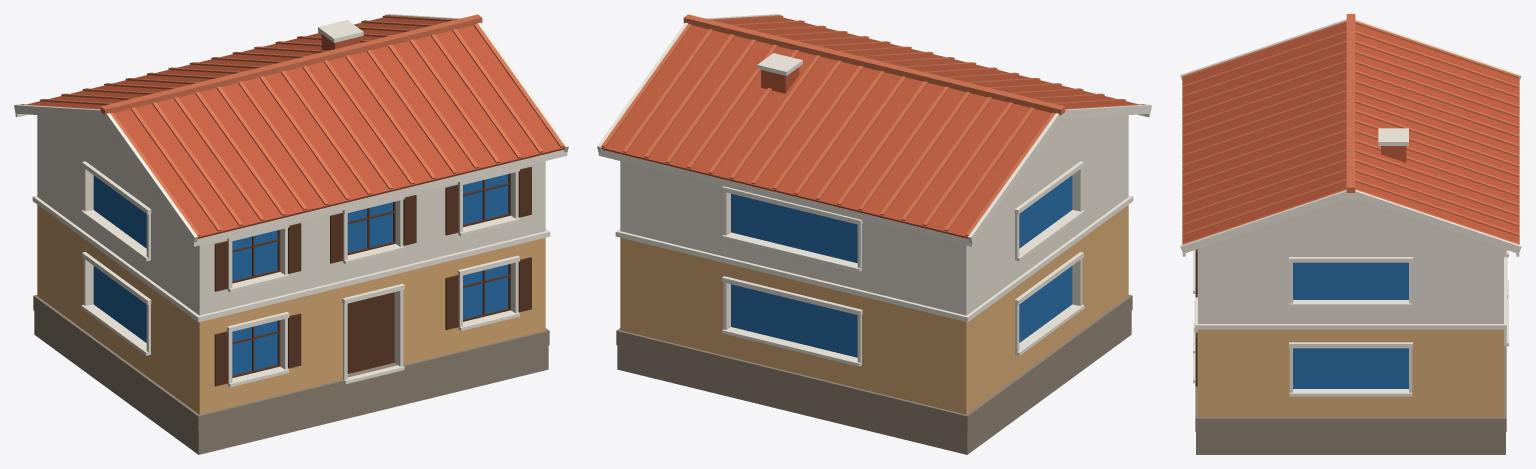
File: 05b_lowrise_village-lod0.glb
3 renders of one model, left to right at view 1: azimuth 30°, elevation 25°; view 2: azimuth 150°, elevation 25°; view 3: azimuth 270°, elevation 25°, orthographic. The views are drawn at different scales.
Parts seen in each view (by area): view 1: LowriseVillage_LOD0; view 2: LowriseVillage_LOD0; view 3: LowriseVillage_LOD0.
Boxes of the visible parts, x1,y1,x2,y2 form: LowriseVillage_LOD0: (14, 14, 568, 454); LowriseVillage_LOD0: (597, 14, 1151, 454); LowriseVillage_LOD0: (1180, 14, 1521, 454).
Size of the model in its own units: 11.56 by 8.49 by 9.59.
2 materials, 2 textured.
